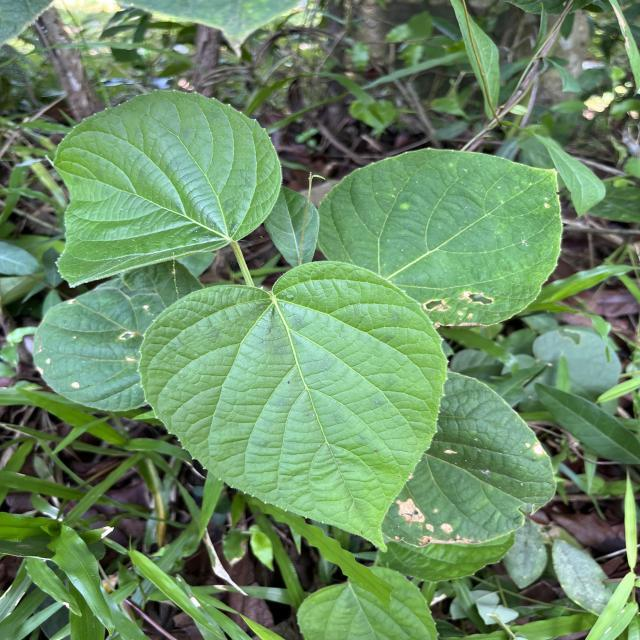Clerodendrum infortunatum: (136, 258, 453, 556), (42, 88, 286, 290), (314, 144, 564, 332)
